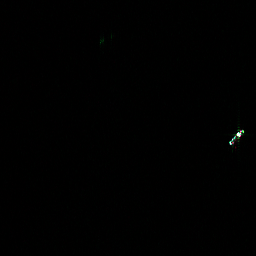ship: (226, 126, 246, 148)
